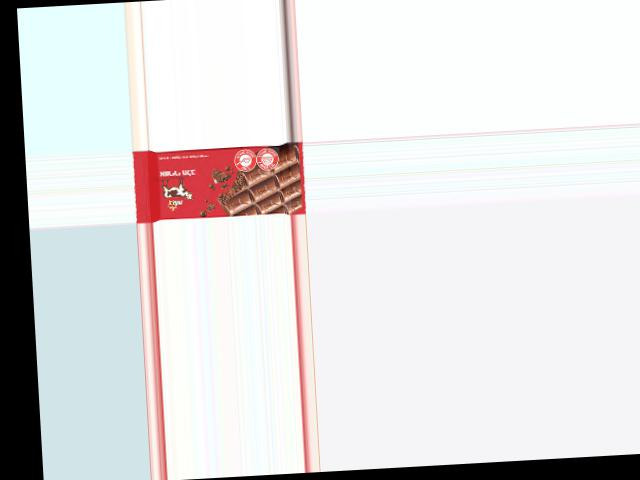chocolate: (131, 141, 304, 222)
